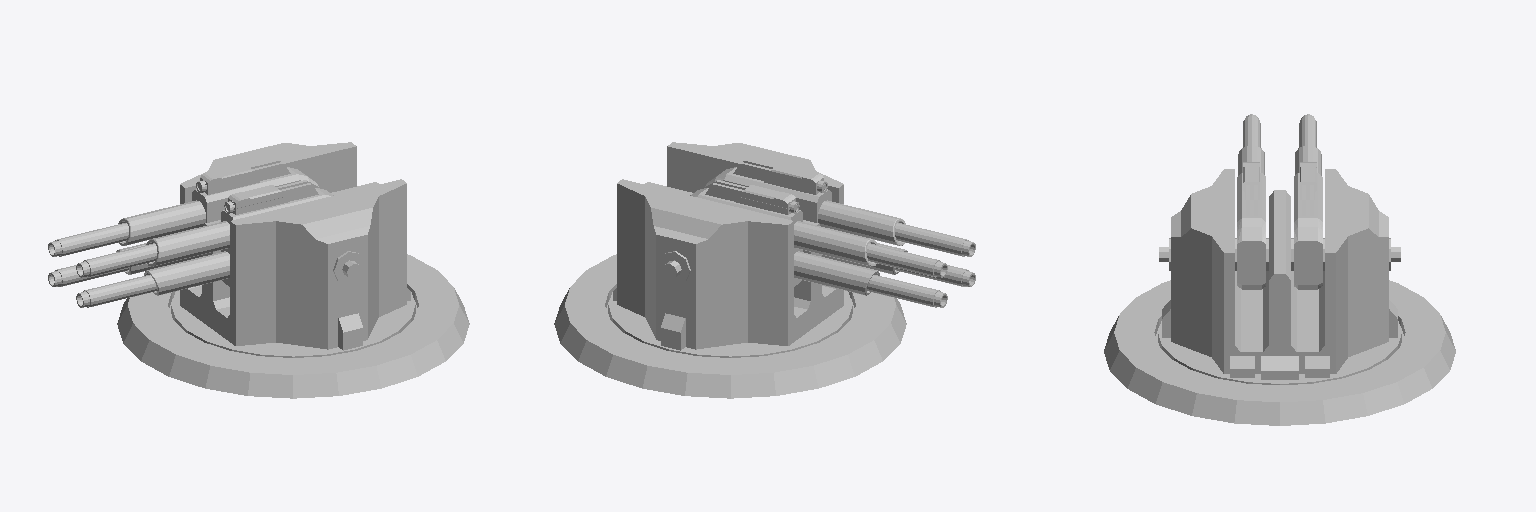
The model's file is cannon2.obj.
3 views of the same model, side by side, from view 1: azimuth 30°, elevation 25°; view 2: azimuth 150°, elevation 25°; view 3: azimuth 270°, elevation 25° (orthographic).
Visible parts, largest first — view 1: Sci_Fi_AA_Turret_; view 2: Sci_Fi_AA_Turret_; view 3: Sci_Fi_AA_Turret_.
Boxes of the visible parts, box(x1,y1,x2,y2) form: Sci_Fi_AA_Turret_: box(48, 142, 469, 398); Sci_Fi_AA_Turret_: box(554, 142, 975, 398); Sci_Fi_AA_Turret_: box(1104, 114, 1455, 425).
Size of the model in its own units: 341 by 132 by 274.